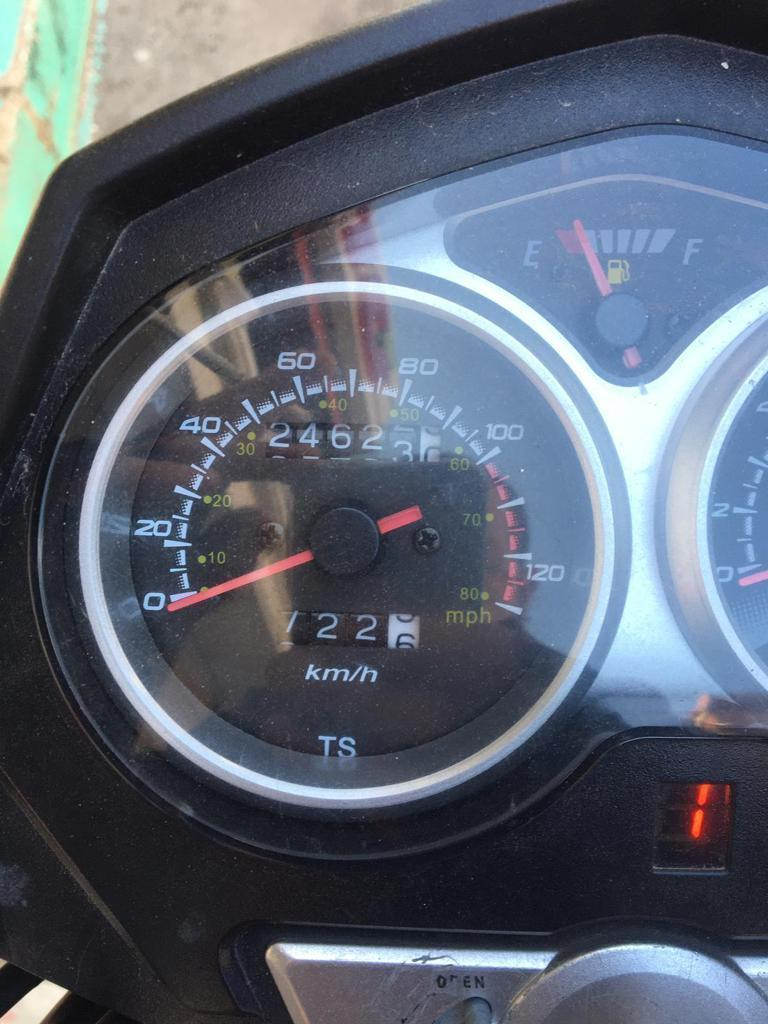0: (423, 444, 442, 468)
2: (360, 423, 383, 450), (268, 421, 291, 447)
3: (391, 440, 414, 464)
4: (298, 422, 319, 447)
6: (331, 423, 351, 449)
odometer: (262, 419, 443, 465)
